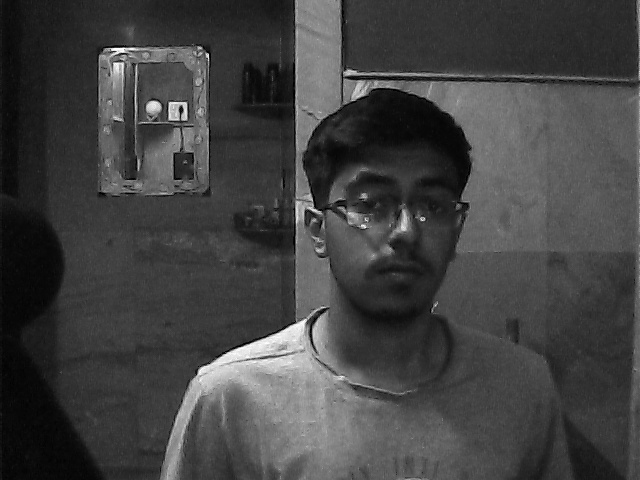nomask: (323, 139, 467, 328)
